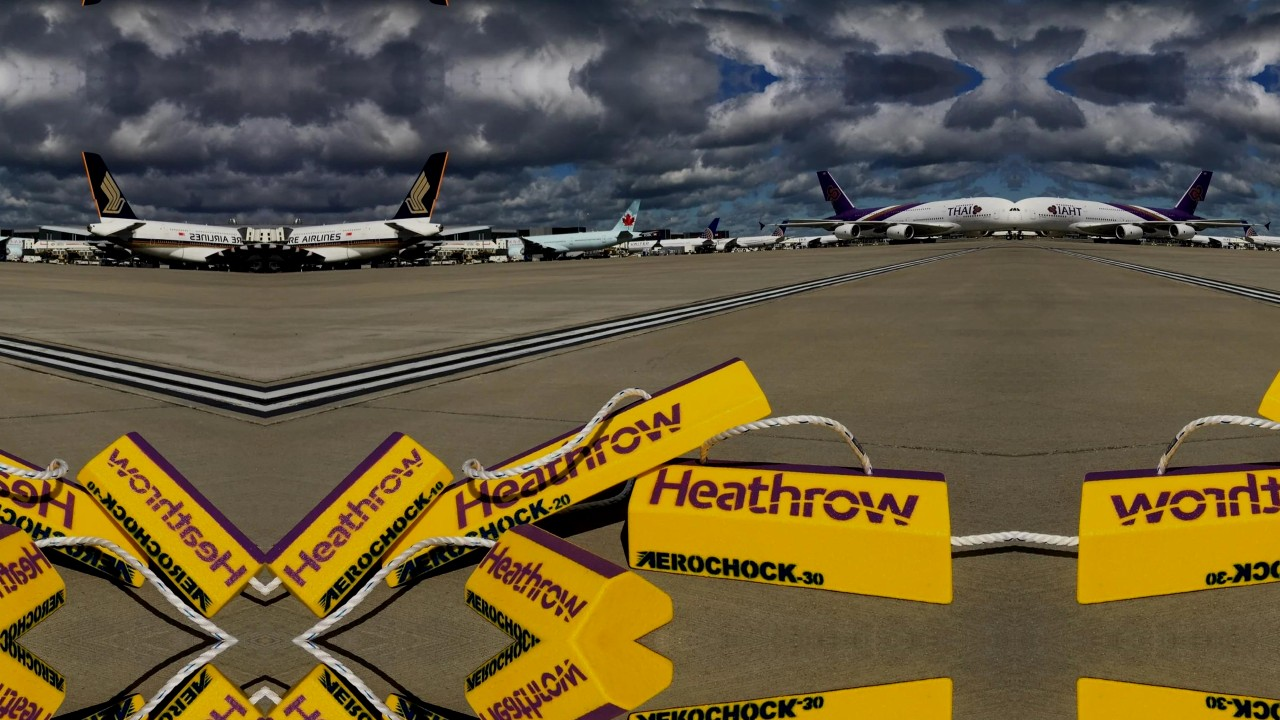chock: (373, 352, 780, 589), (623, 437, 958, 618), (1072, 437, 1280, 618), (75, 424, 265, 622), (265, 424, 455, 622), (0, 352, 157, 589), (463, 516, 676, 641), (623, 664, 958, 720), (463, 641, 676, 720), (1072, 664, 1280, 720), (75, 660, 265, 720), (265, 660, 455, 720), (373, 693, 780, 720), (0, 516, 67, 641), (0, 641, 67, 720)
